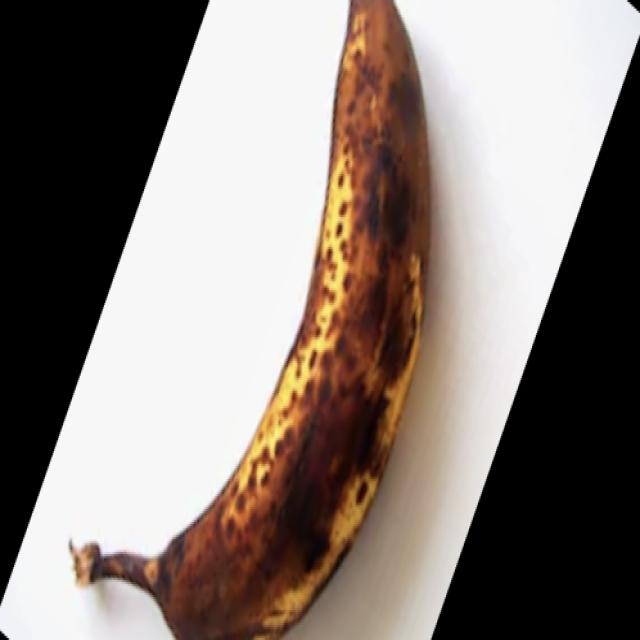overripe: (118, 0, 436, 640)
